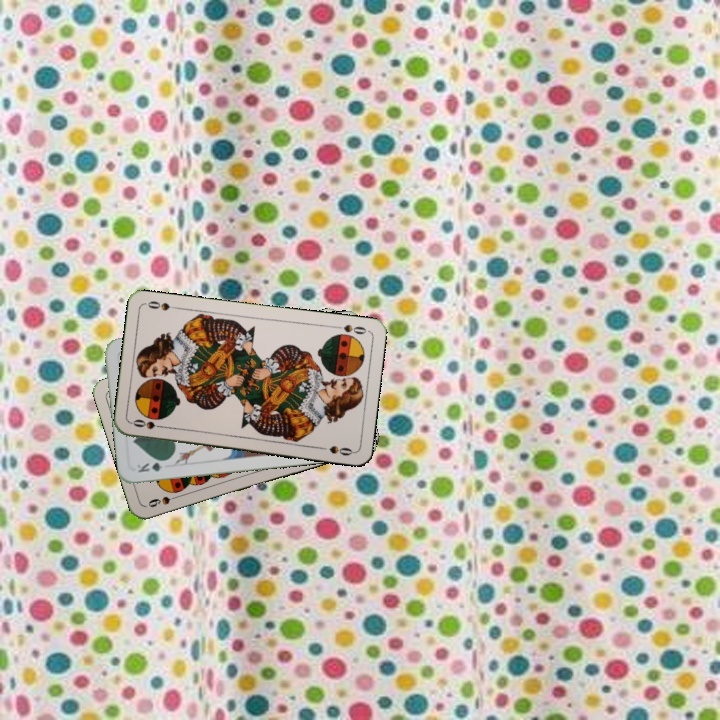GK: (133, 456, 172, 475)
S9: (144, 490, 183, 510)
SO: (128, 415, 169, 432), (330, 320, 369, 337)
